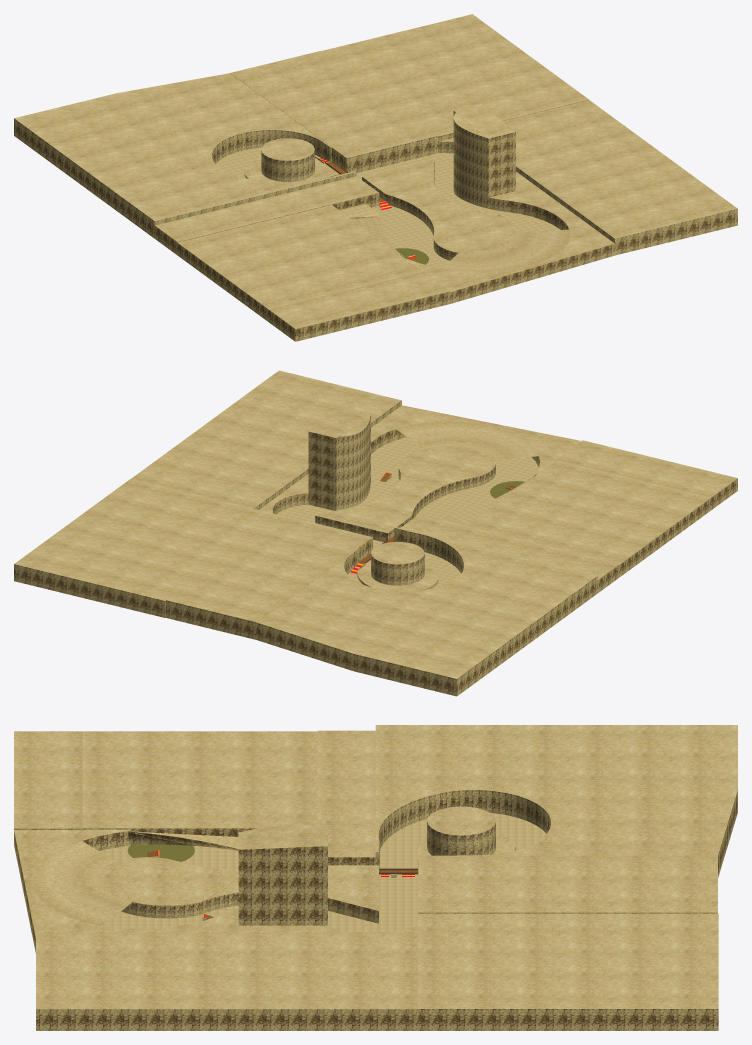
The picture shows the model from 3 angles, top to bottom: view 1: azimuth 30°, elevation 25°; view 2: azimuth 150°, elevation 25°; view 3: azimuth 270°, elevation 25°; orthographic projection. The views are drawn at different scales.
Visible parts, largest first — view 1: grass_off, wall.011, dirt_road.001; view 2: grass_off, wall.011, dirt_road.001; view 3: grass_off, wall.011, dirt_road.001, sand.014.
Part boxes in pixels (x1,y1,x2,y2): grass_off: (14,14,737,328); wall.011: (14,73,737,341); dirt_road.001: (216,147,560,268); grass_off: (14,370,737,678); wall.011: (14,400,737,696); dirt_road.001: (277,437,538,588); grass_off: (14,725,737,1009); wall.011: (14,790,737,1030); dirt_road.001: (99,813,546,931); sand.014: (127,844,194,861).
Size of the model in its own units: 221329 by 34528 by 239181.
Materials: 9 (9 with a texture image).
